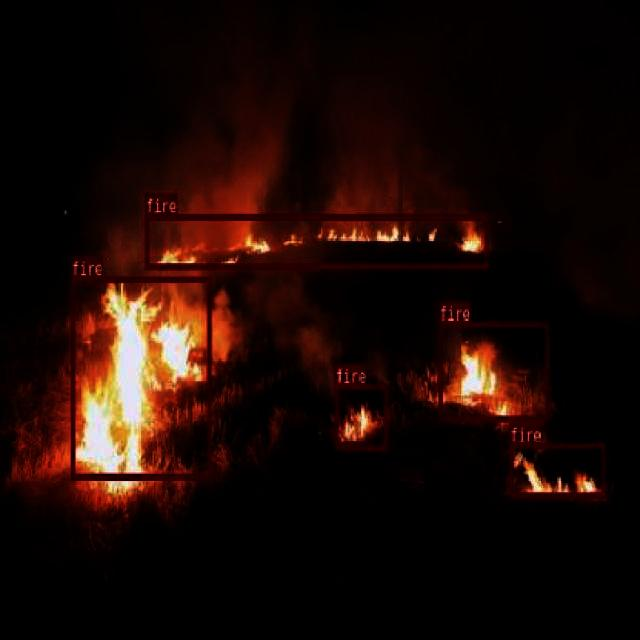fire: (70, 276, 210, 478), (144, 214, 488, 268), (438, 322, 548, 420), (508, 442, 606, 498), (334, 383, 388, 451)
